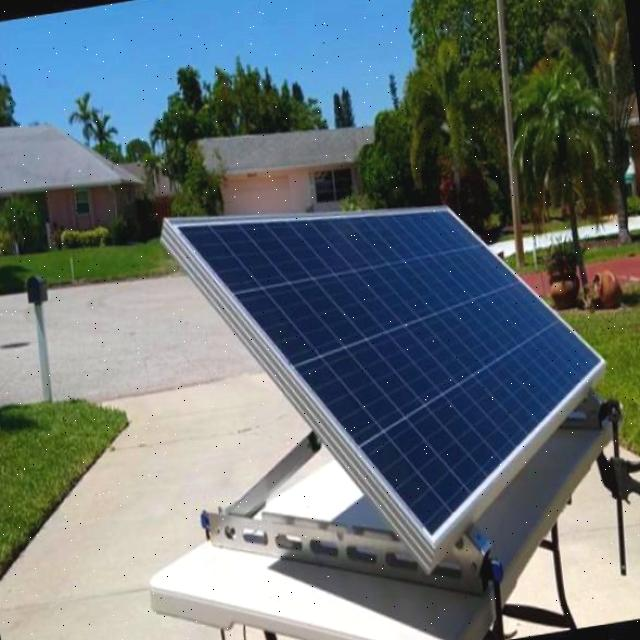Normal Solar Panel: (166, 154, 624, 578)
